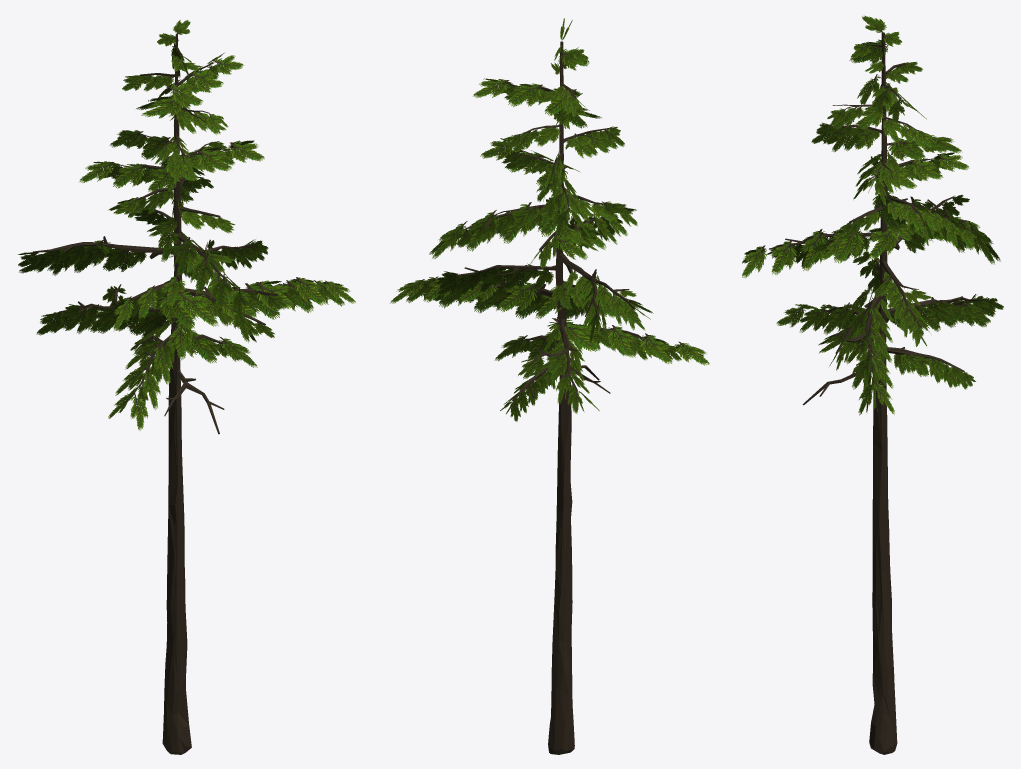
The model's file is sc-pine.glb.
3 renders of one model, left to right at view 1: azimuth 30°, elevation 25°; view 2: azimuth 150°, elevation 25°; view 3: azimuth 270°, elevation 25°, orthographic.
Visible parts, largest first — view 1: SM_Env_Pine_01_LOD0, SM_Env_Pine_01_LOD1_L2; view 2: SM_Env_Pine_01_LOD0, SM_Env_Pine_01_LOD1_L2; view 3: SM_Env_Pine_01_LOD0, SM_Env_Pine_01_LOD1_L2.
Part boxes in pixels (x1,y1,x2,y2): SM_Env_Pine_01_LOD0: (18,20,317,754); SM_Env_Pine_01_LOD1_L2: (34,42,355,750); SM_Env_Pine_01_LOD0: (433,18,681,754); SM_Env_Pine_01_LOD1_L2: (390,49,709,751); SM_Env_Pine_01_LOD0: (766,15,1003,754); SM_Env_Pine_01_LOD1_L2: (742,39,1000,753).
Size of what is drawn, in the model's own units: 9.25 by 22 by 7.18.
2 materials, 2 textured.
